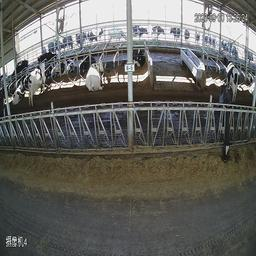cow: (214, 85, 239, 163), (23, 60, 49, 103), (222, 54, 242, 100), (86, 58, 109, 95), (10, 77, 31, 110), (56, 54, 77, 79), (129, 42, 147, 69), (77, 48, 89, 76)
